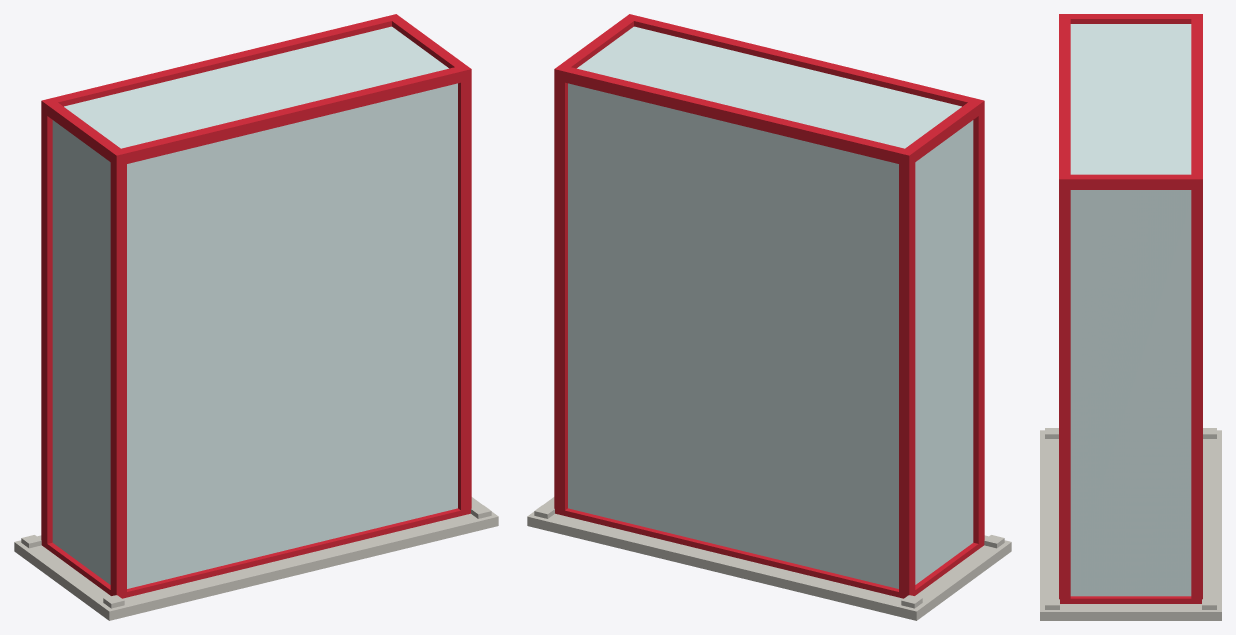
Rendered from udirdlagatai-avto-kran.glb.
3 renders of one model, left to right at view 1: azimuth 30°, elevation 25°; view 2: azimuth 150°, elevation 25°; view 3: azimuth 270°, elevation 25°, orthographic. The views are drawn at different scales.
Bounding box in the file's own units: 0.26 × 0.2895 × 0.11.
